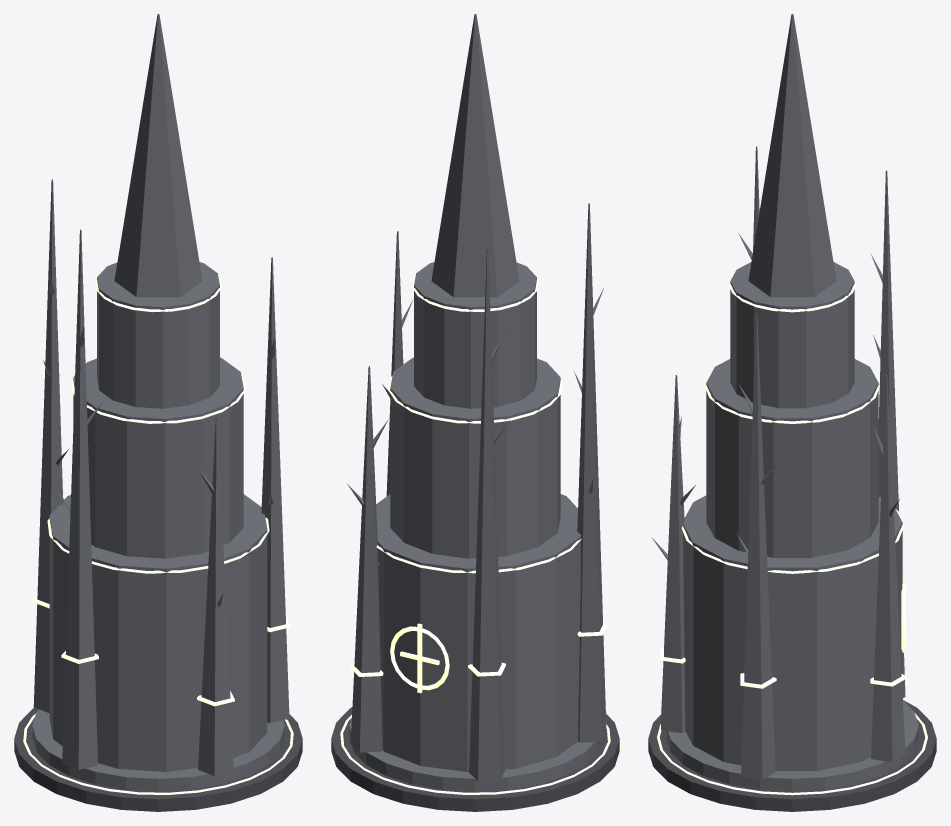
File: zone_high_3.glb
3 renders of one model, left to right at view 1: azimuth 30°, elevation 25°; view 2: azimuth 150°, elevation 25°; view 3: azimuth 270°, elevation 25°, orthographic.
Parts seen in each view (by area): view 1: zone_high_3; view 2: zone_high_3; view 3: zone_high_3.
Boxes of the visible parts, x1,y1,x2,y2 form: zone_high_3: (14,14,302,811); zone_high_3: (331,14,619,811); zone_high_3: (648,14,936,811).
Bounding box in the file's own units: 28.8 × 81.15 × 28.8.
